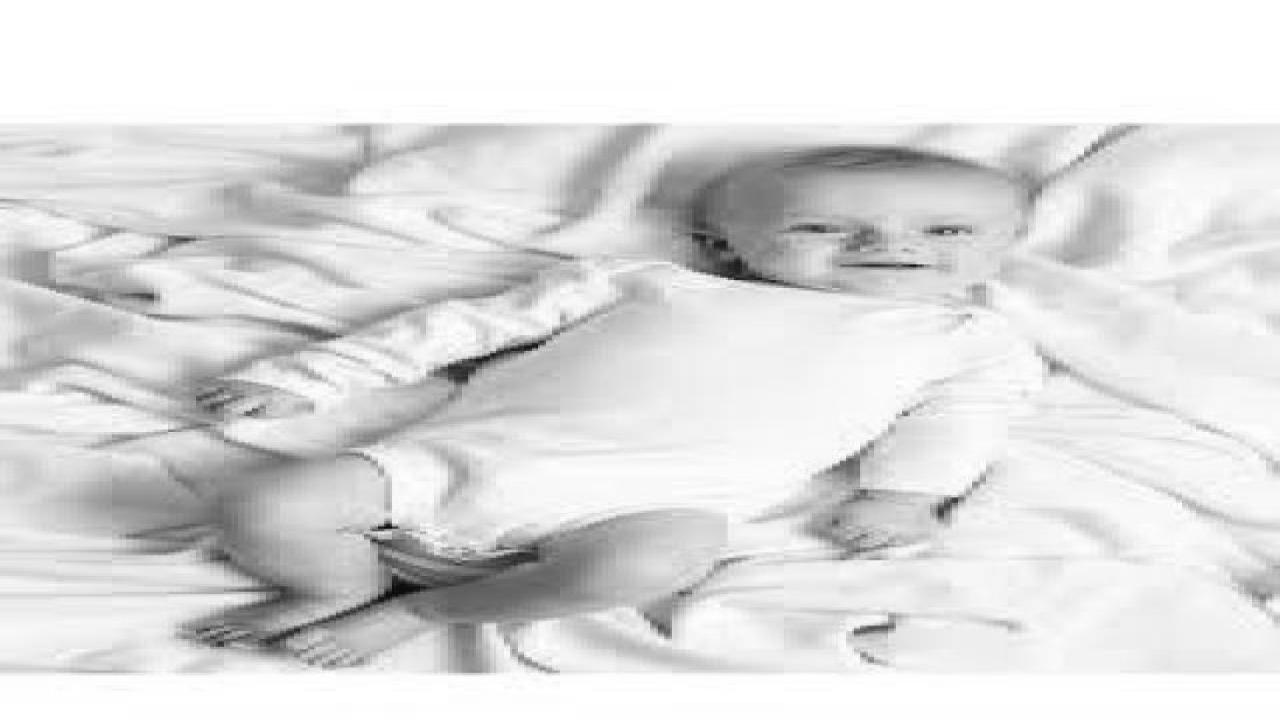hand: (812, 482, 952, 560), (195, 376, 317, 426)
